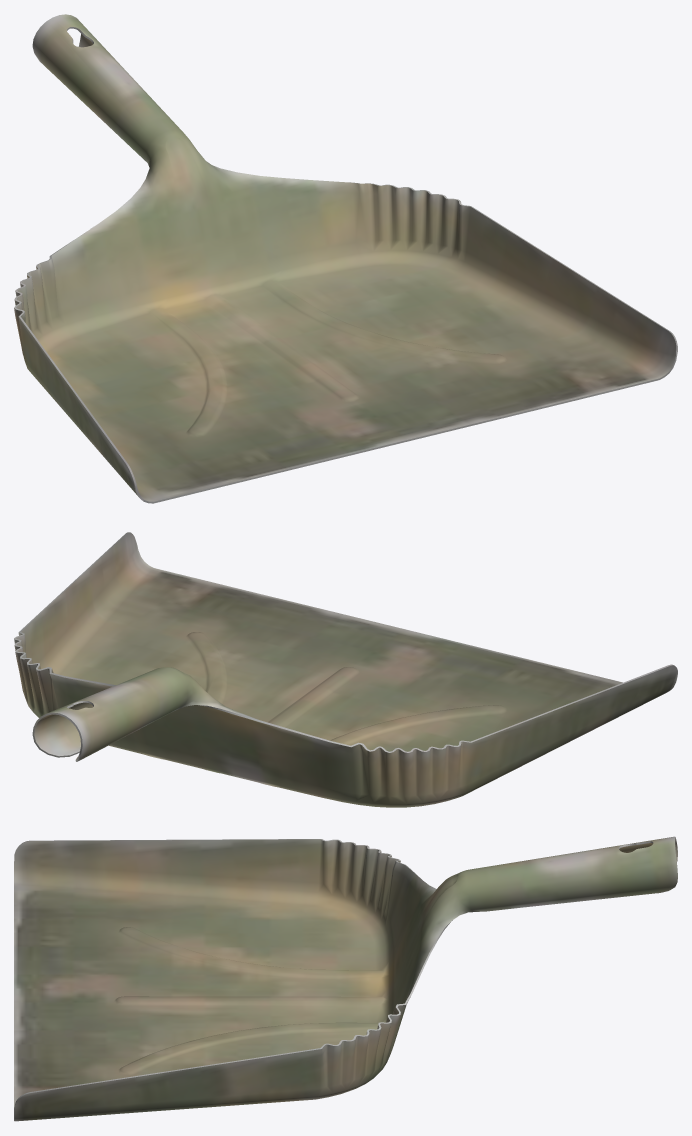
File: dustpan.glb
3 views of the same model, one above another, from view 1: azimuth 30°, elevation 25°; view 2: azimuth 150°, elevation 25°; view 3: azimuth 270°, elevation 25° (orthographic). The views are drawn at different scales.
Parts seen in each view (by area): view 1: dustpan; view 2: dustpan; view 3: dustpan.
Boxes of the visible parts, x1,y1,x2,y2 form: dustpan: (14,14,677,503); dustpan: (14,532,677,807); dustpan: (14,836,677,1121).
Bounding box in the file's own units: 0.3321 × 0.1003 × 0.368.
1 material, 1 textured.
